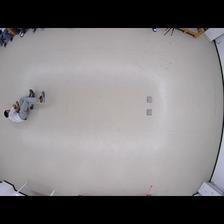fall: (3, 86, 47, 123)
